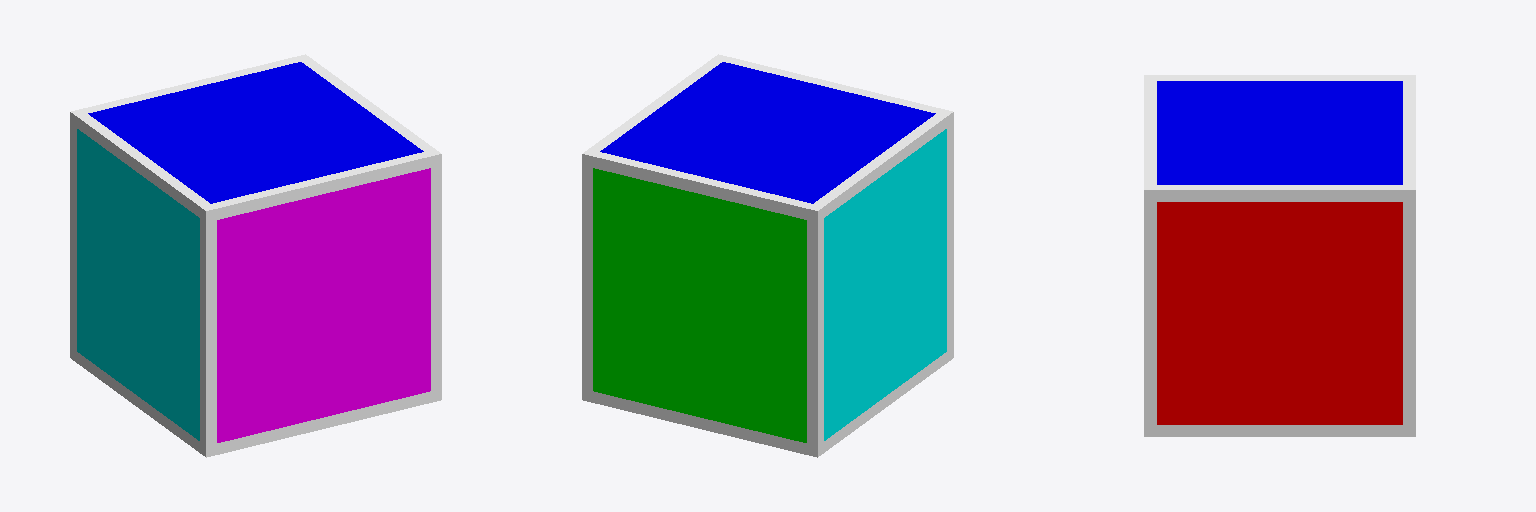
3 renders of one model, left to right at view 1: azimuth 30°, elevation 25°; view 2: azimuth 150°, elevation 25°; view 3: azimuth 270°, elevation 25°, orthographic.
Visible parts, largest first — view 1: Cube; view 2: Cube; view 3: Cube.
Boxes of the visible parts, <box> form: Cube: <box>70,54,441,457</box>; Cube: <box>582,54,953,457</box>; Cube: <box>1144,75,1415,436</box>.
Size of the model in its own units: 1 by 1 by 1.
1 materials, 1 textured.